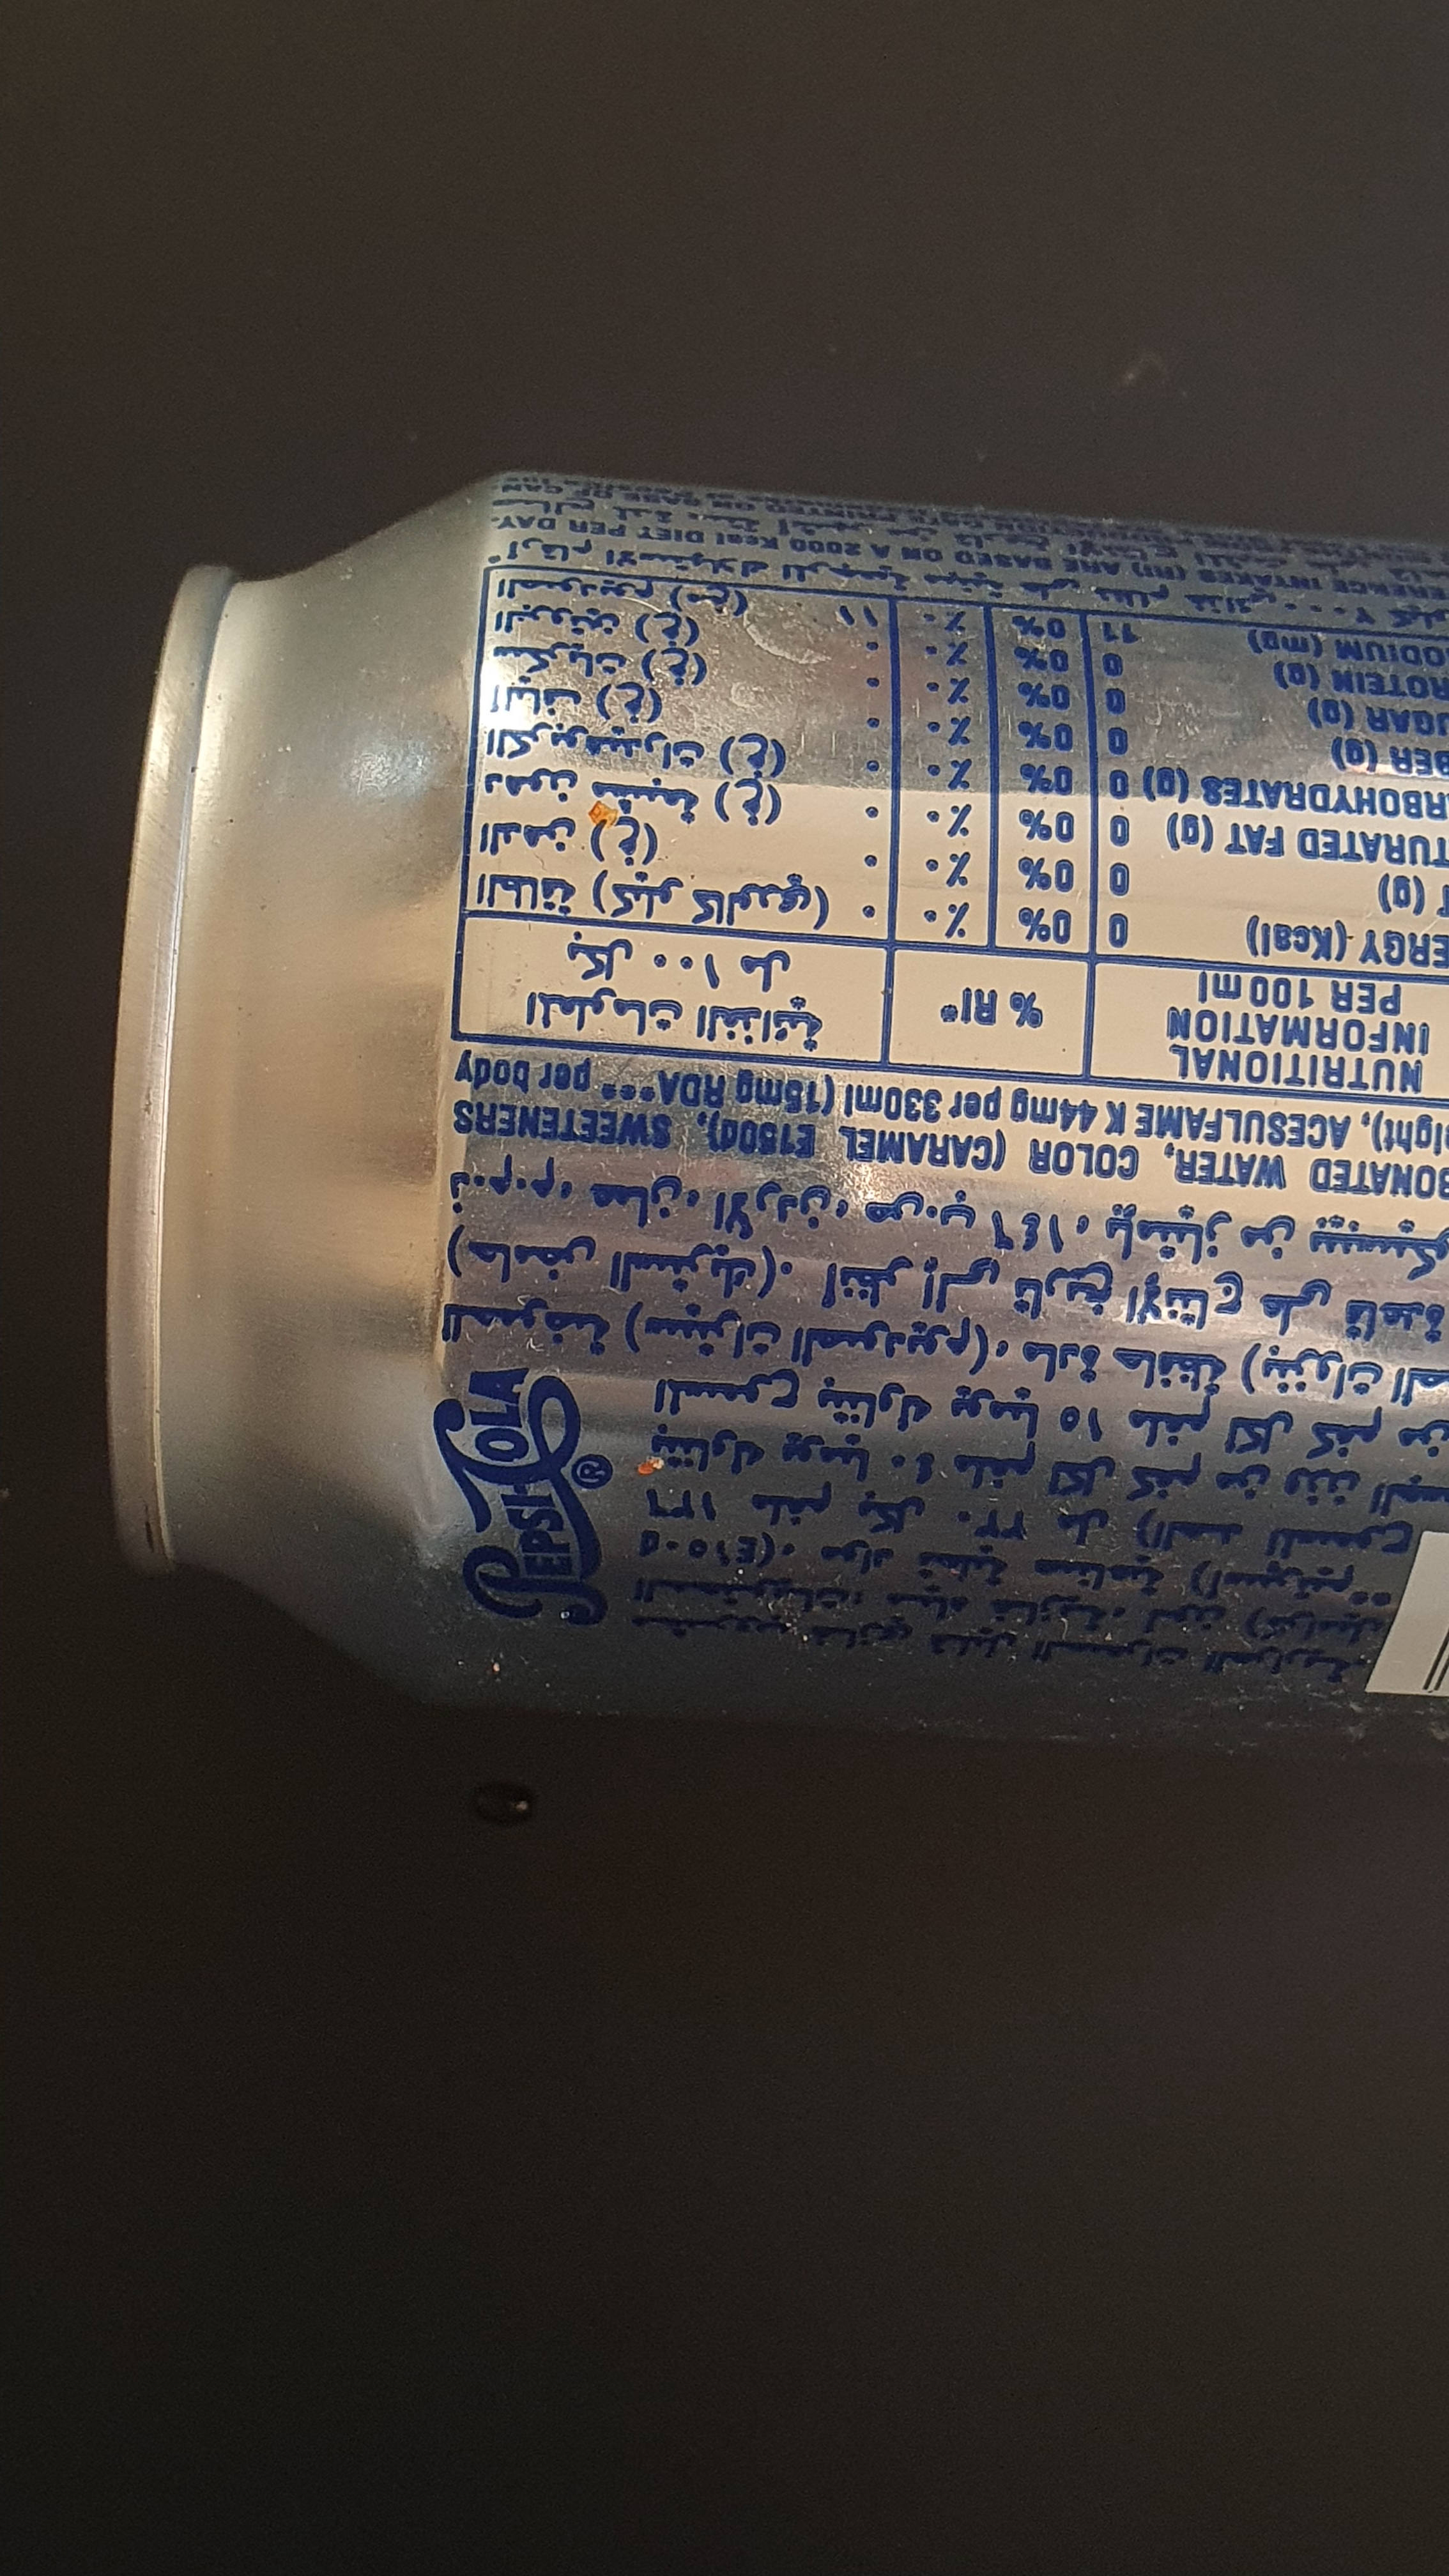metal: (74, 446, 1449, 1799)
